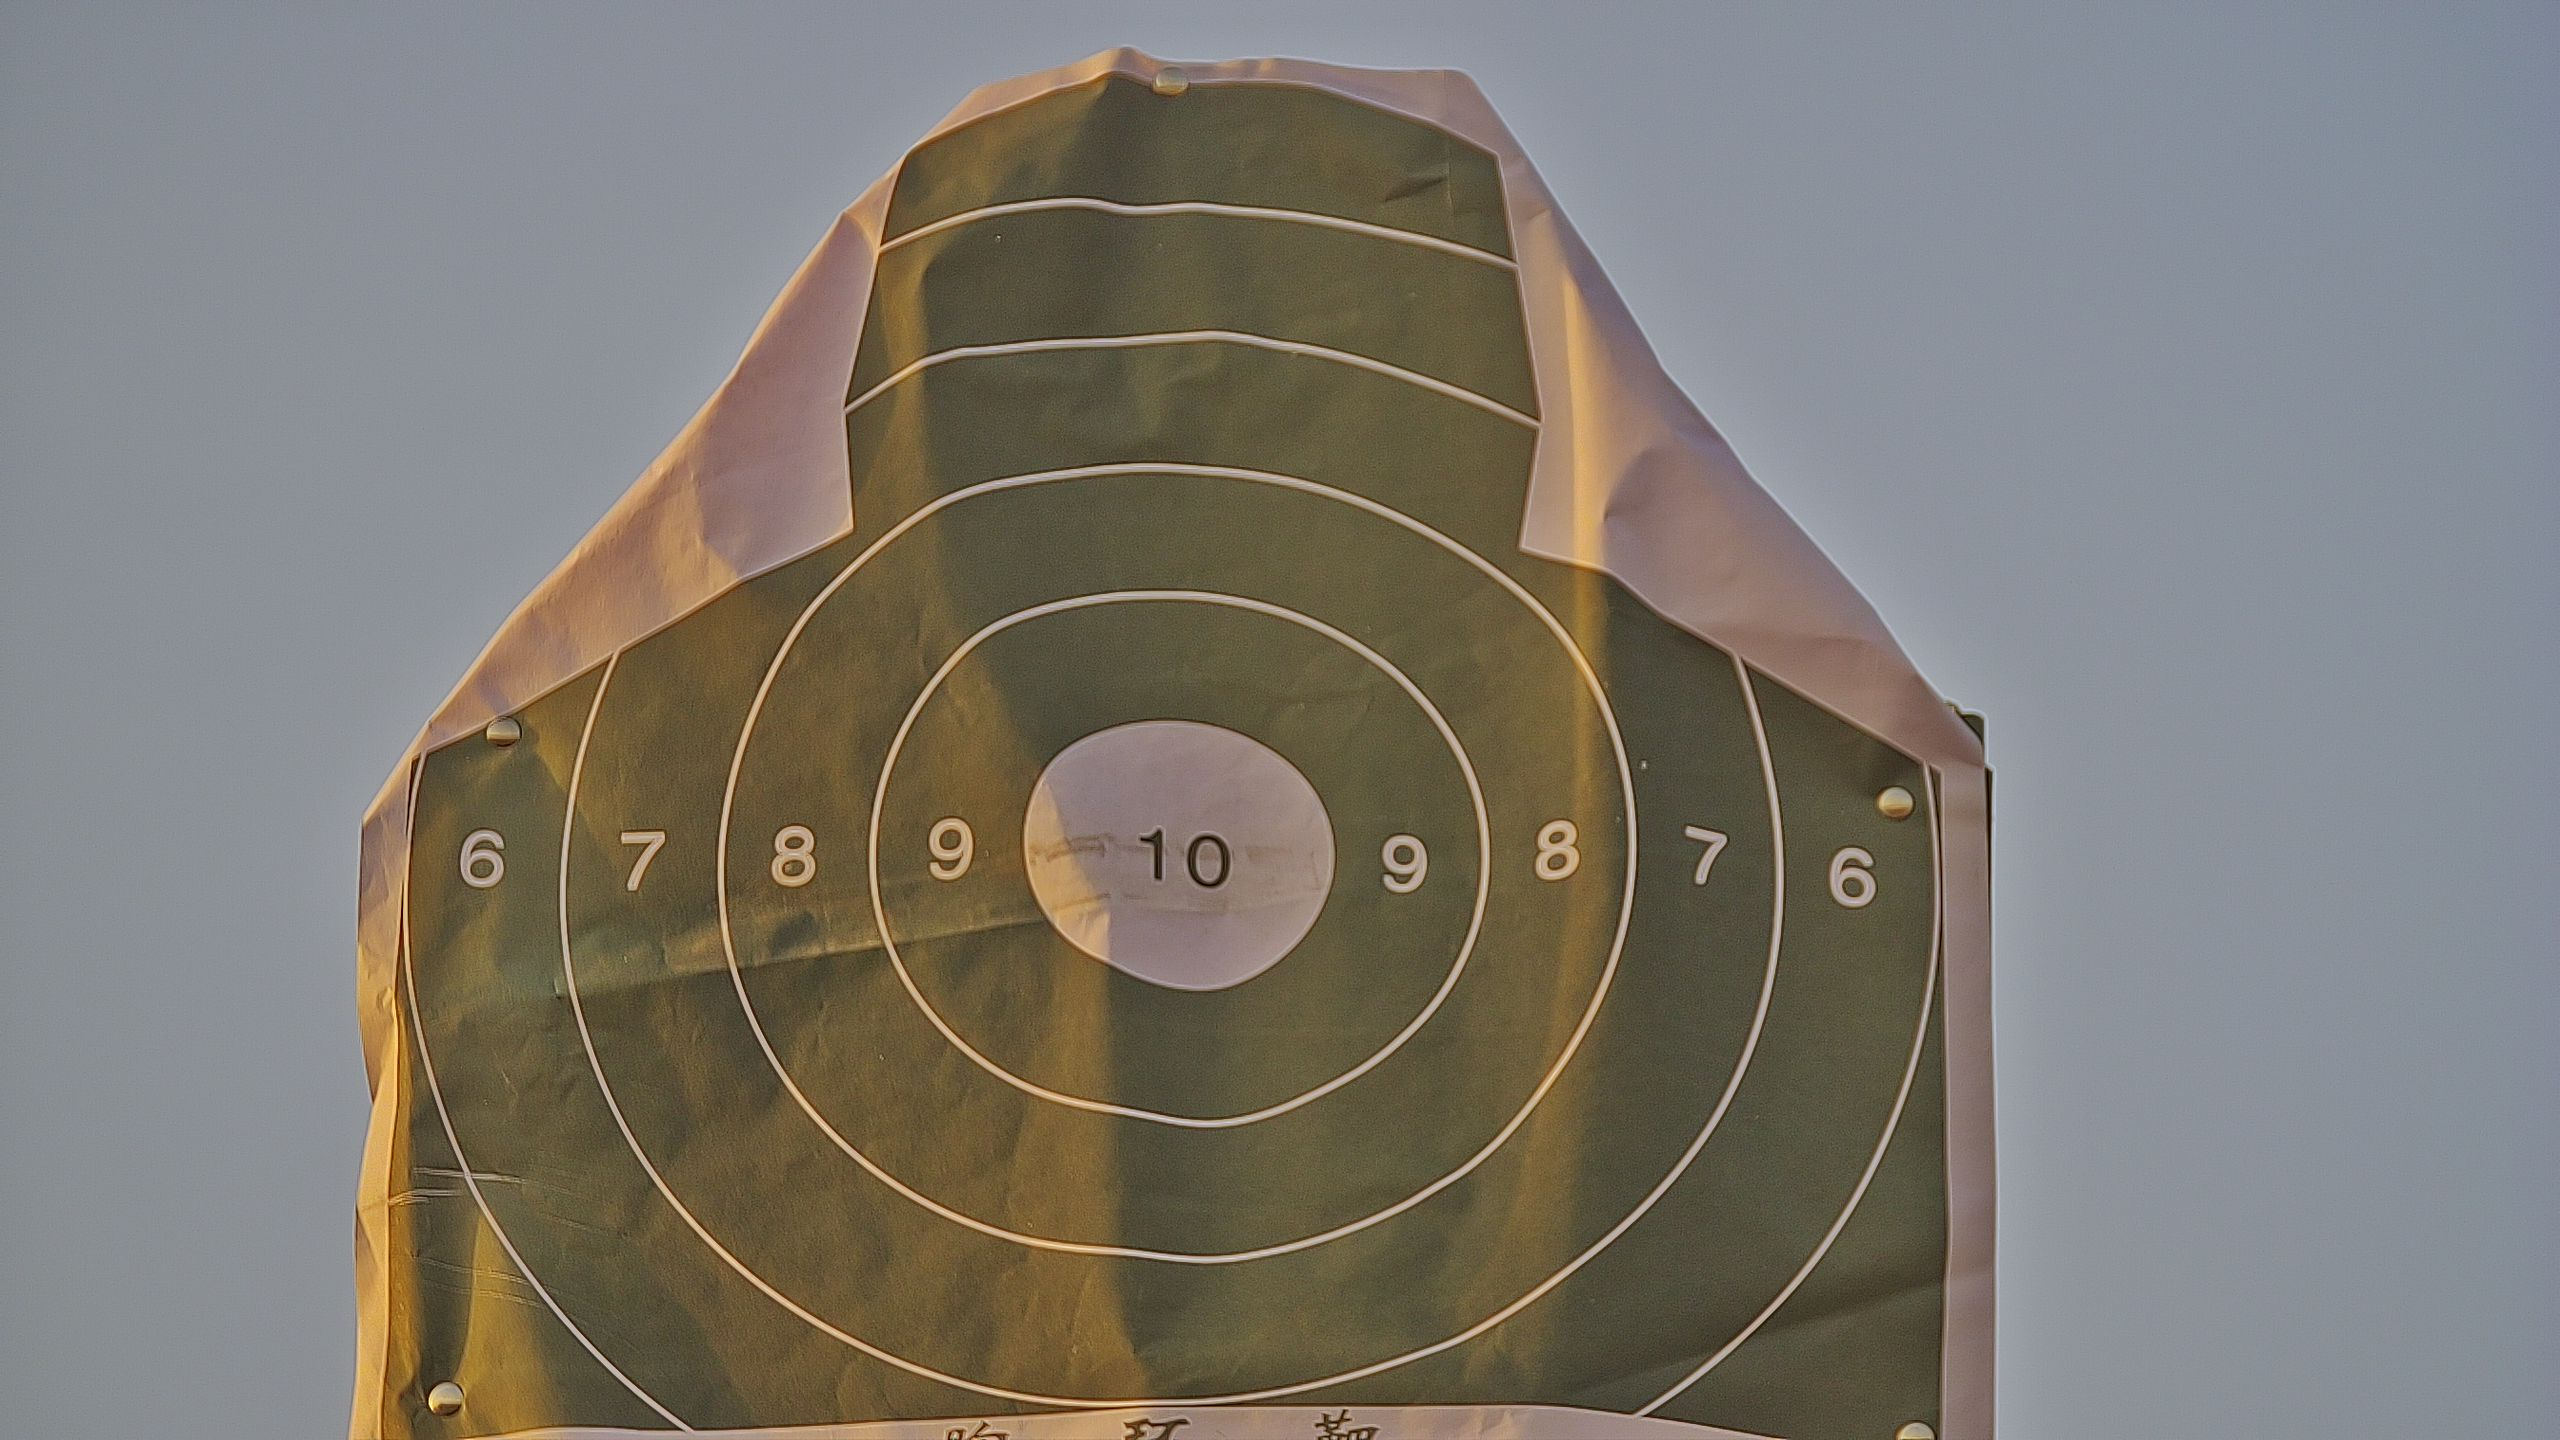target: (415, 81, 1946, 1440)
ten: (1022, 719, 1335, 993)
